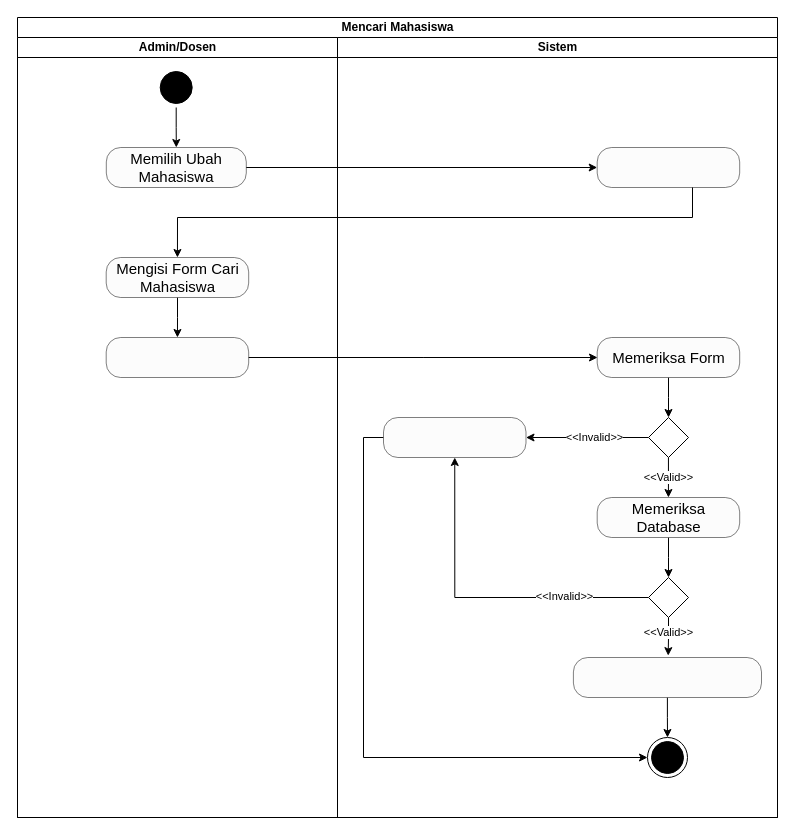
Some shapes in this 795 by 835 pixel diagram are drawn without their labels. Each missing label, with the centre of its shape:
"Memilih Cari" belongs at point (177, 357).
"Menampilkan Data Mahasiswa Yang Tersaring" belongs at point (667, 677).
"Menampilkan Form Cari Mahasiswa" belongs at point (668, 167).
"Menampilkan Pesan Kesalahan" belongs at point (454, 437).
